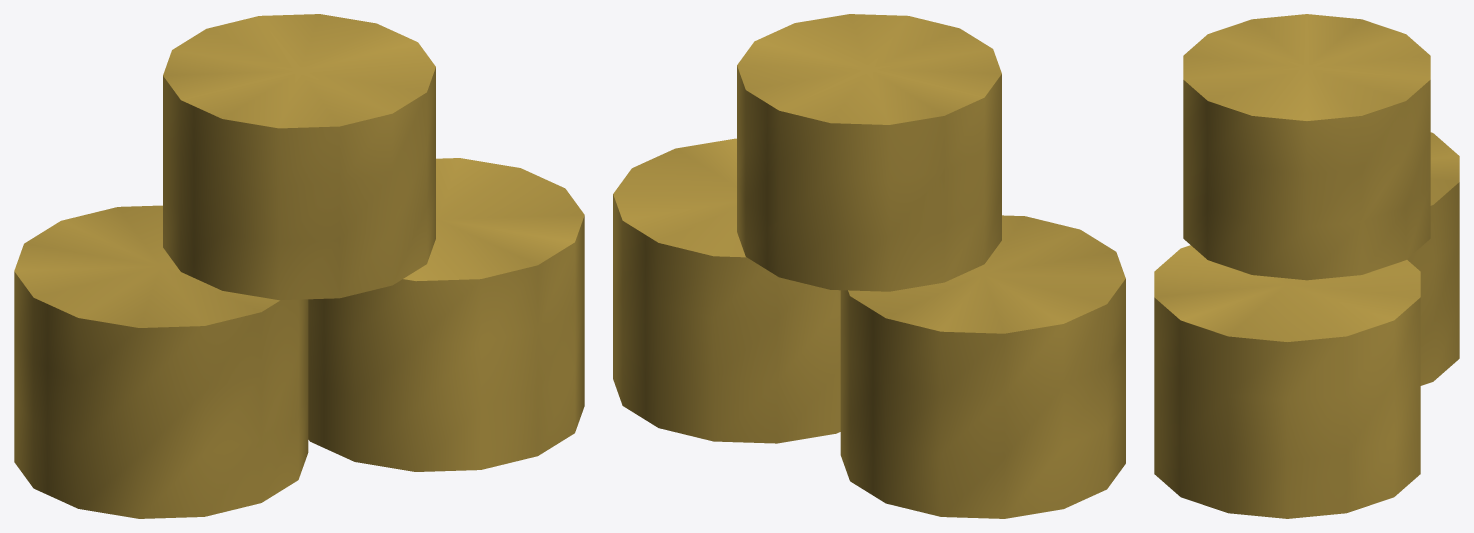
File: feno.glb
3 views of the same model, side by side, from view 1: azimuth 30°, elevation 25°; view 2: azimuth 150°, elevation 25°; view 3: azimuth 270°, elevation 25° (orthographic). The views are drawn at different scales.
Visible parts, largest first — view 1: Prop; view 2: Prop; view 3: Prop.
Part boxes in pixels (left/top/right/bottom): Prop: left=14, top=14, right=584, bottom=518; Prop: left=613, top=14, right=1125, bottom=518; Prop: left=1154, top=14, right=1459, bottom=518.
Size of the model in its own units: 2.8 by 1.9 by 1.56.
